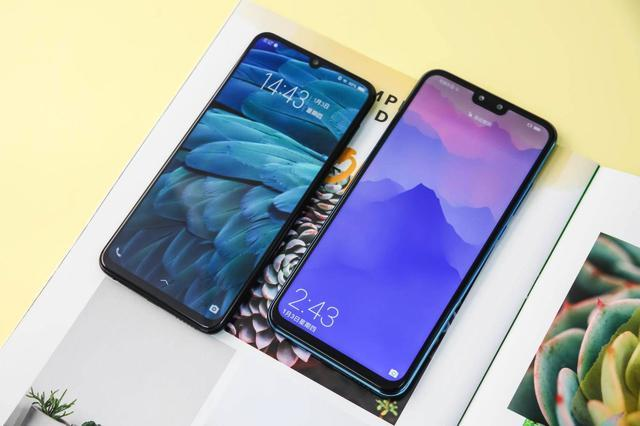phone: (297, 105, 546, 359), (114, 44, 341, 288)
